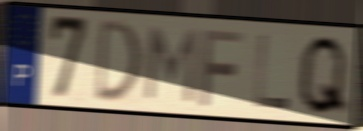7: (47, 12, 90, 104)
D: (92, 16, 144, 105)
F: (197, 26, 247, 109)
L: (252, 32, 290, 112)
M: (141, 24, 201, 107)
Q: (295, 33, 350, 120)
